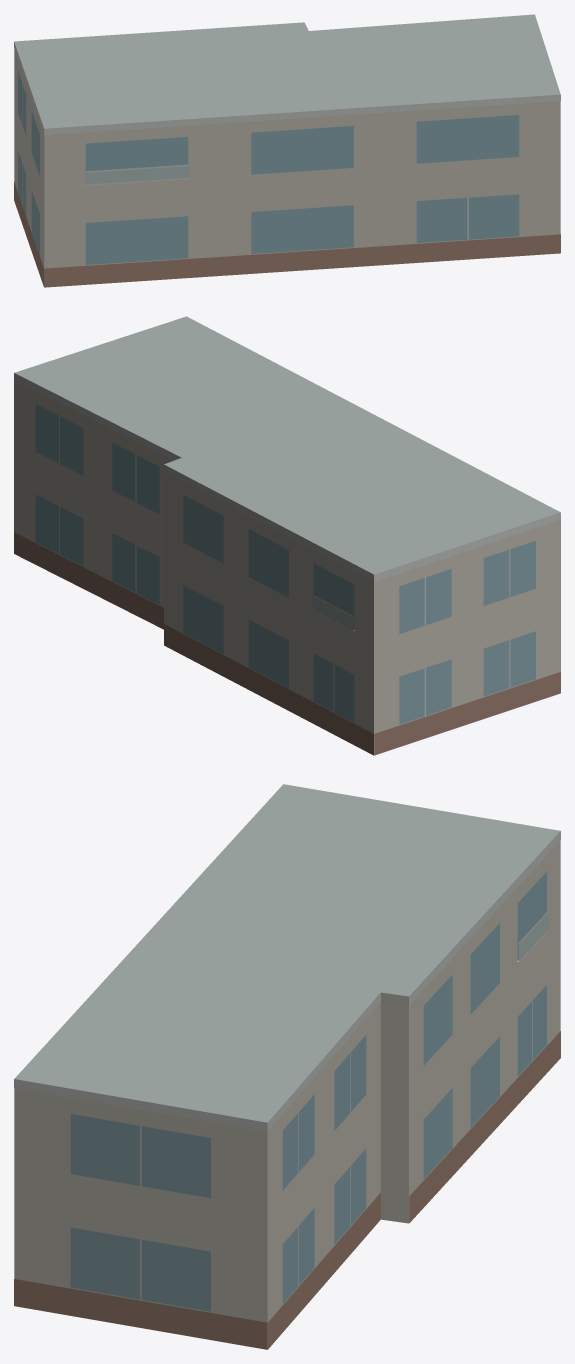
File: survey-upis-32678312.glb
3 views of the same model, one above another, from view 1: azimuth 30°, elevation 25°; view 2: azimuth 150°, elevation 25°; view 3: azimuth 270°, elevation 25° (orthographic). The views are drawn at different scales.
Visible parts, largest first — view 1: survey-upis-32678312.tmp; view 2: survey-upis-32678312.tmp; view 3: survey-upis-32678312.tmp.
Part boxes in pixels (left/top/right/bottom): survey-upis-32678312.tmp: left=14, top=14, right=560, bottom=287; survey-upis-32678312.tmp: left=14, top=316, right=560, bottom=755; survey-upis-32678312.tmp: left=14, top=784, right=560, bottom=1349.
Size of the model in its own units: 19.52 by 6.1 by 13.32.
